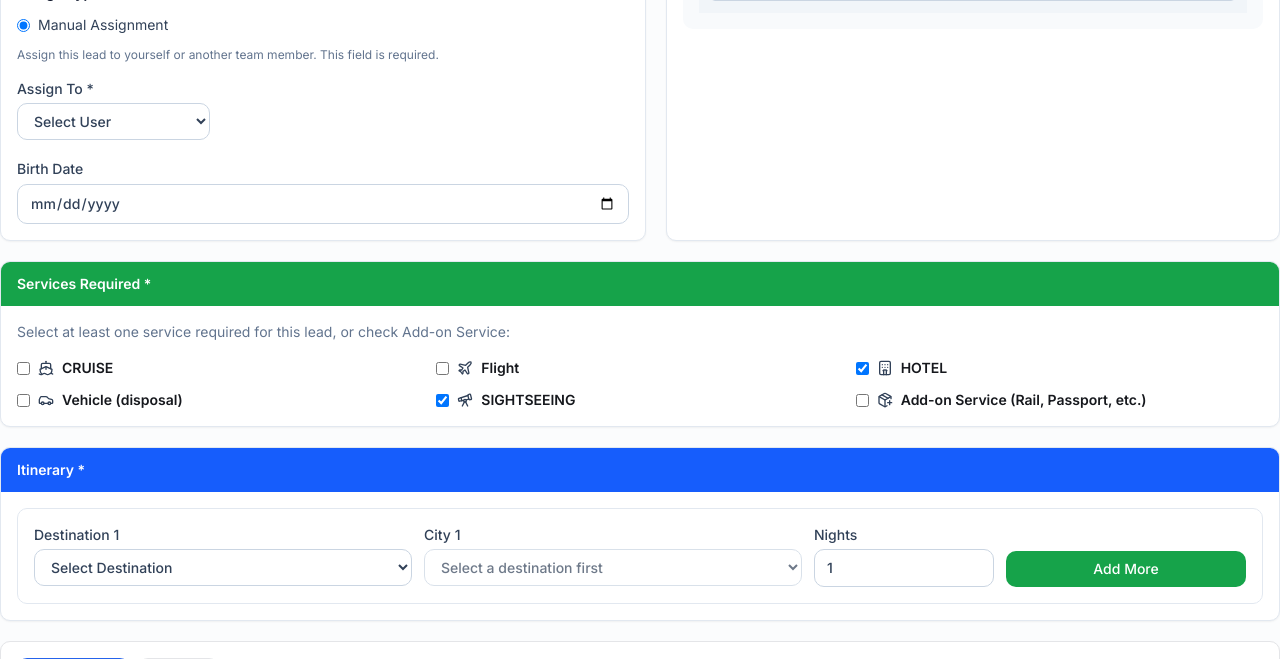
Test: Phase 6 lead pages › keeps the minimum-one-service validation
(page scrolled)
Click the checkbox labelled "HOTEL" at (862, 368), box [856,362,869,374]
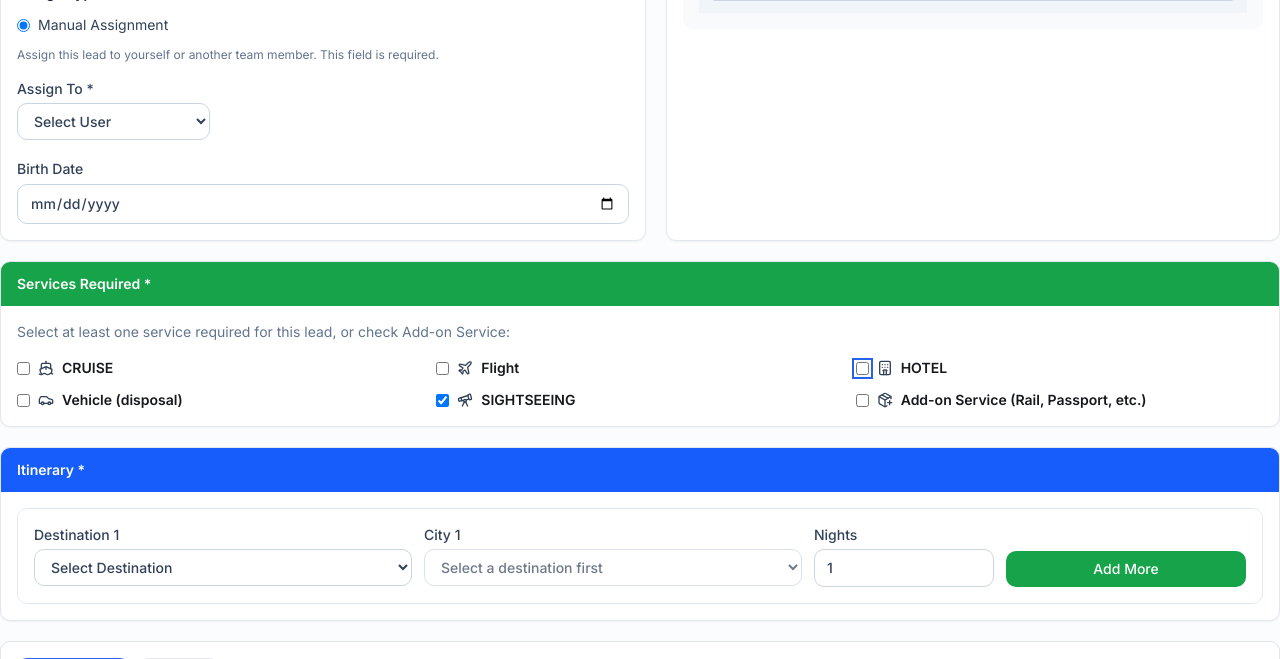
Click the checkbox labelled "SIGHTSEEING" at (443, 400), box [436,394,449,406]
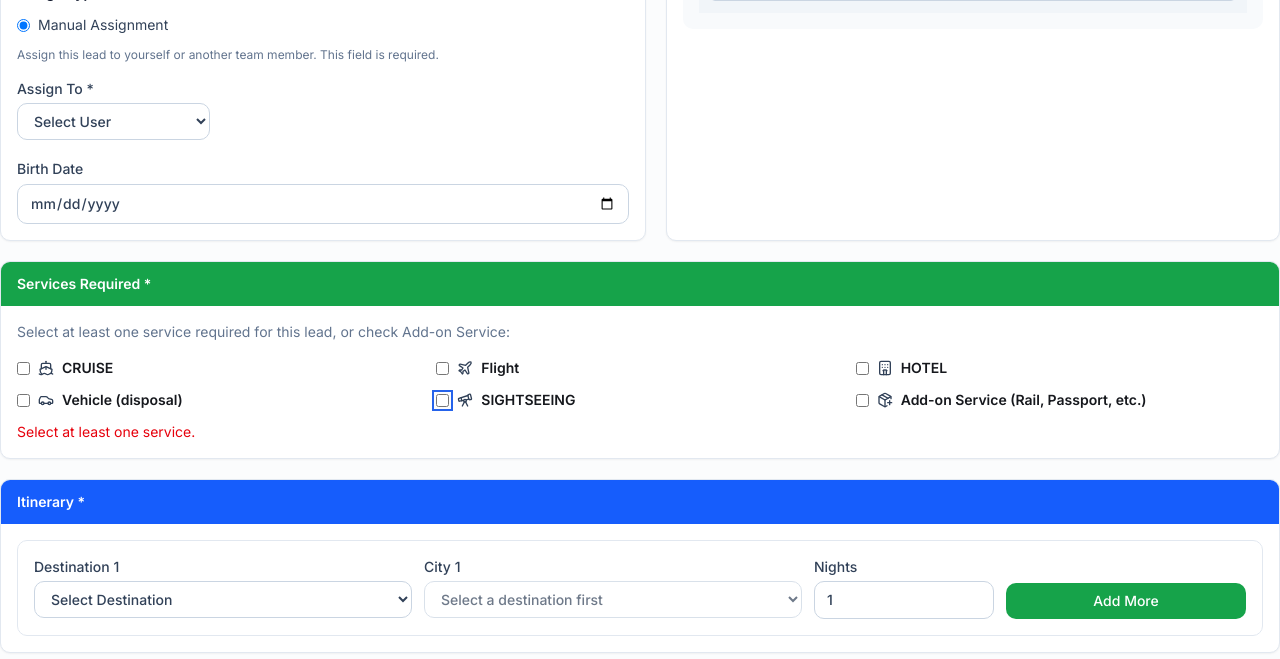
Result: the text "Select at least one service." is shown at [17,423,195,440]
